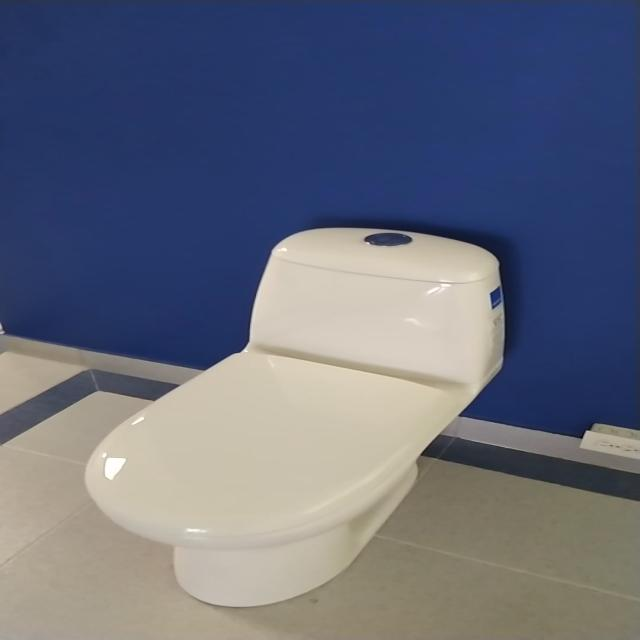toilet: (83, 226, 506, 607)
